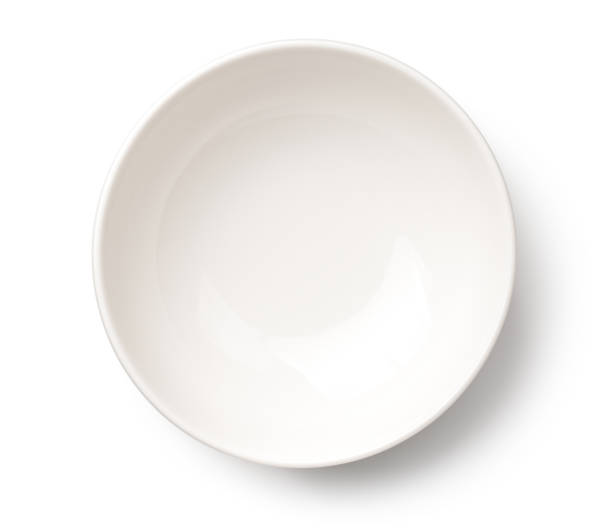Bowl: (67, 28, 547, 502)
